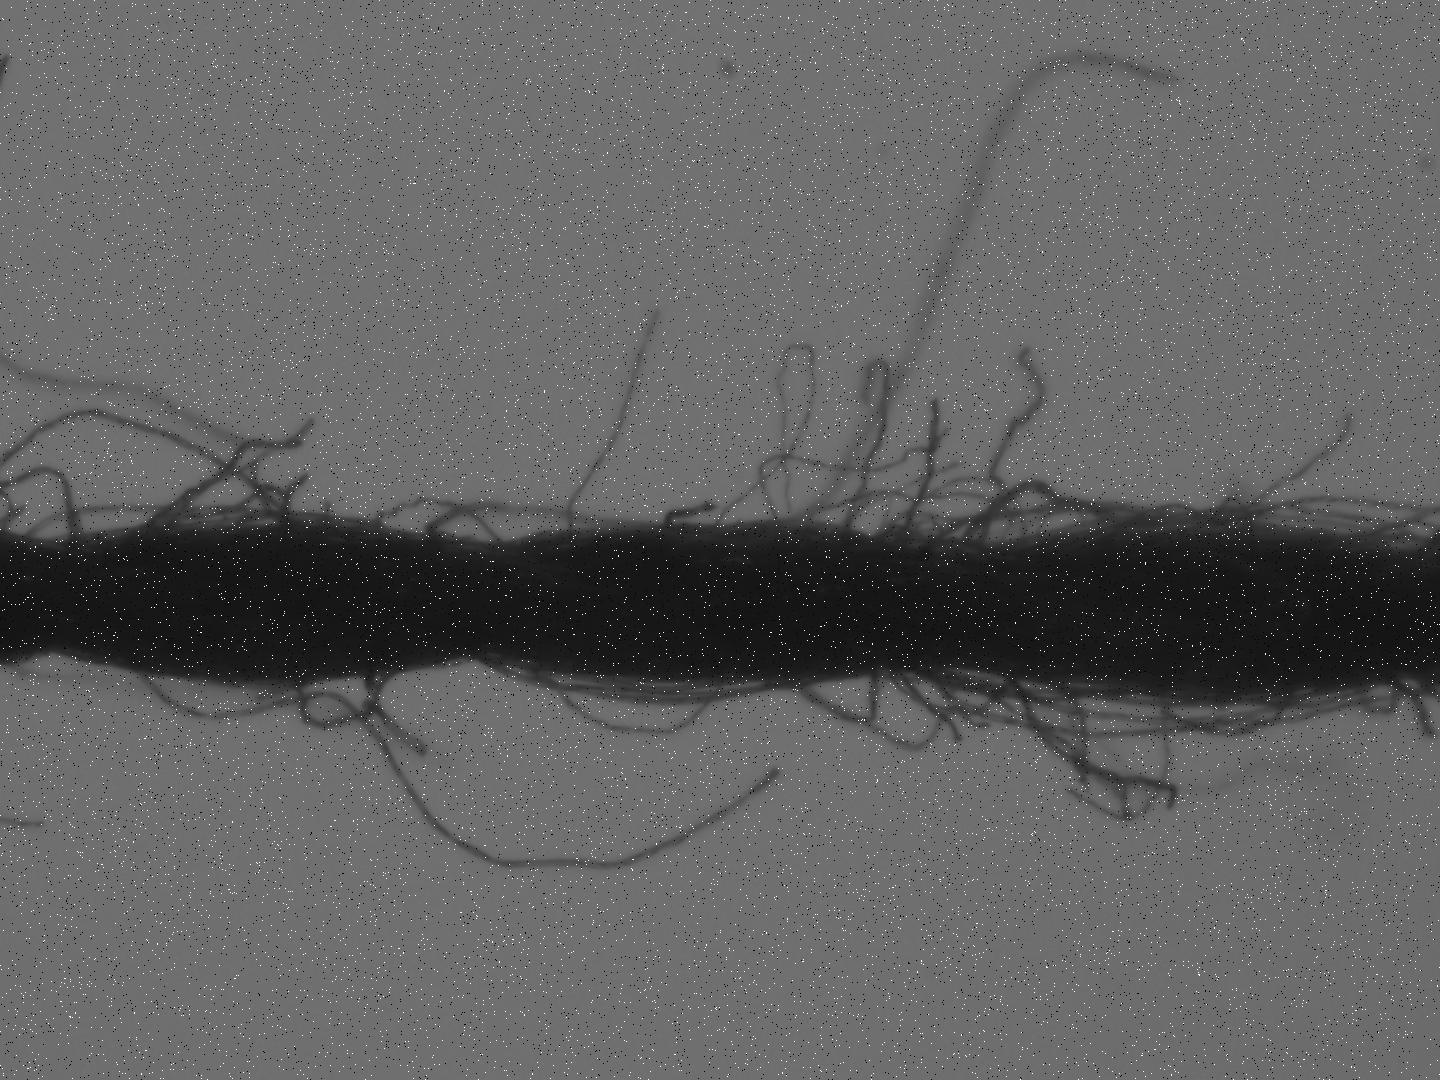loop_fiber: (517, 652, 730, 741), (955, 476, 1172, 548), (347, 490, 510, 556), (794, 488, 957, 552), (144, 482, 298, 541), (778, 652, 881, 729), (1152, 695, 1296, 744), (893, 674, 1013, 723), (1110, 498, 1240, 539), (875, 512, 951, 551), (1348, 686, 1425, 719)
protruding_fiber: (561, 307, 661, 539)
